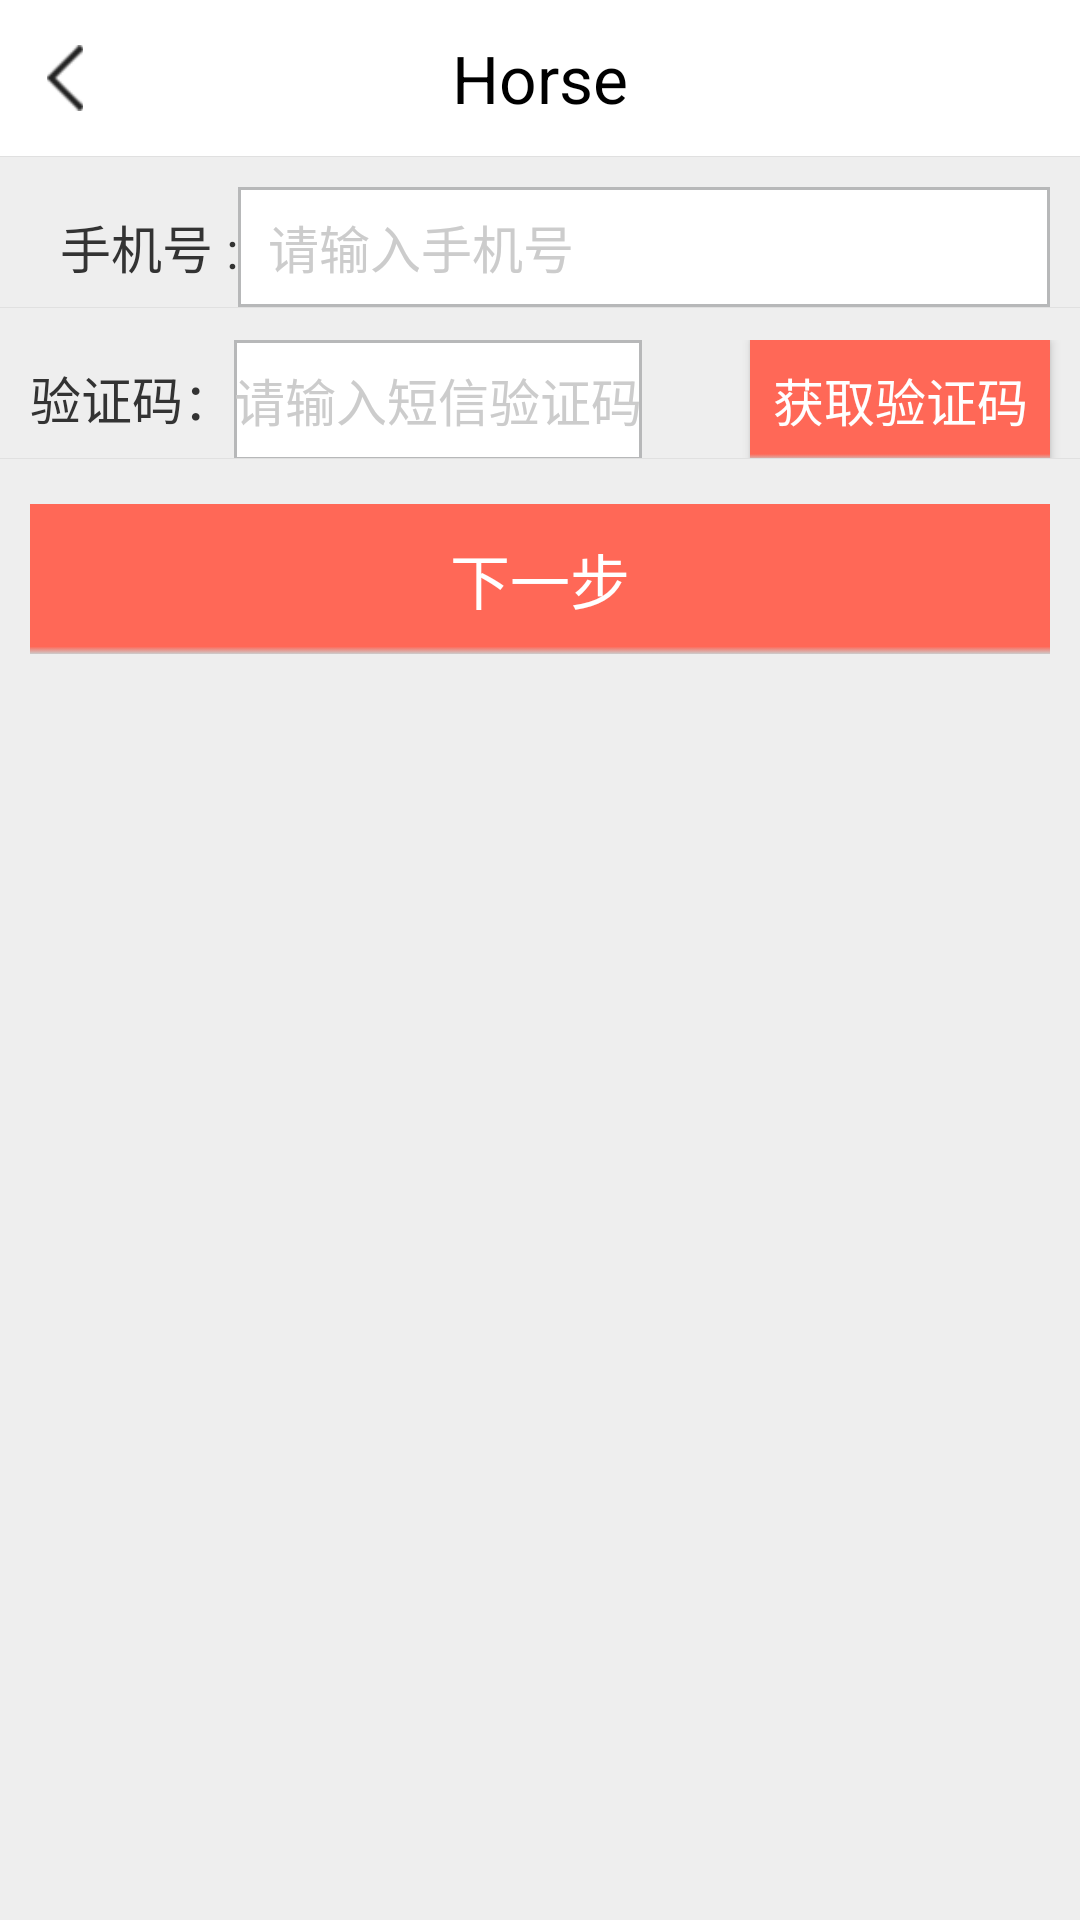

Icons on this 1080 x 1920 Android screen, each with the point to tap as point (x, y):
back focus weex: point (65, 78)
